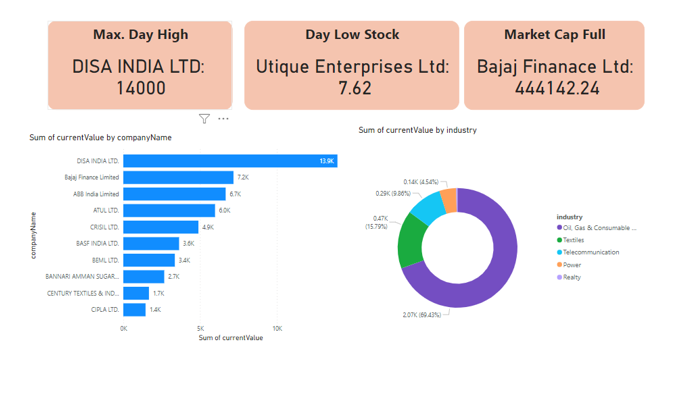

Layout of this report page (visuals, bound fields, positions):
{"tool":"powerbi","page":{"name":"Page 1","canvas":[1280,720],"ordinal":0},"visuals":[{"type":"barChart","fields":{"Category":["export.companyName"],"Y":["Sum(export.currentValue)"]},"box":[0,250.3,650.1,431.7],"z":0},{"type":"donutChart","fields":{"Category":["export.industry"],"Y":["Sum(export.currentValue)"]},"box":[671,235.6,588.3,483.6],"z":1},{"type":"card","title":"Max. Day High","fields":{"Values":["export.maxdayhigh"]},"box":[42,23.5,376.8,181.7],"z":2},{"type":"card","title":"Day Low Stock","fields":{"Values":["export.Day Low Stock"]},"box":[443.7,23.4,438.1,181.9],"z":3},{"type":"card","title":"Market Cap Full","fields":{"Values":["export.High Market Cap"]},"box":[891.5,23.4,367.9,181.9],"z":4}]}

Visuals, with their boxes on the page's 1280x720 design canvas (x1, y1, x2, y2). These are canvas units, not pixel positions in the 683x401 screenshot, which may show the page scaled, cropped or inside an application window:
barChart - export.companyName x Sum(export.currentValue): <region>0, 250, 650, 682</region>
donutChart - export.industry x Sum(export.currentValue): <region>671, 236, 1259, 719</region>
"Max. Day High" card: <region>42, 24, 419, 205</region>
"Day Low Stock" card: <region>444, 23, 882, 205</region>
"Market Cap Full" card: <region>892, 23, 1259, 205</region>
